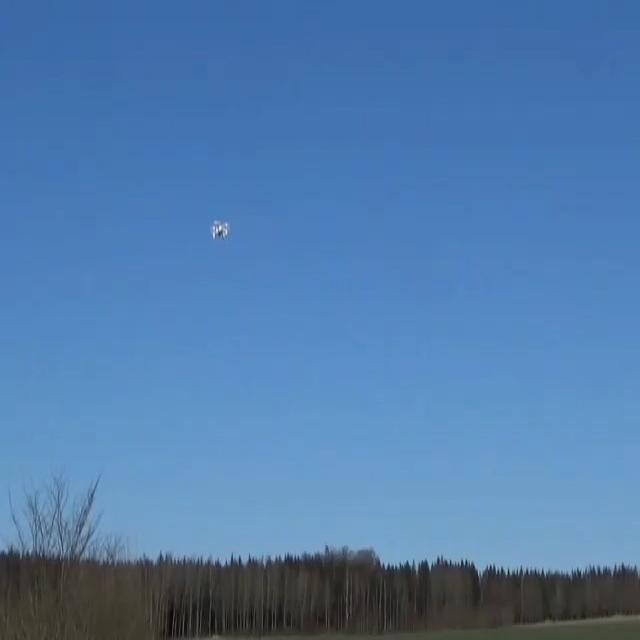drone: (211, 220, 229, 242)
